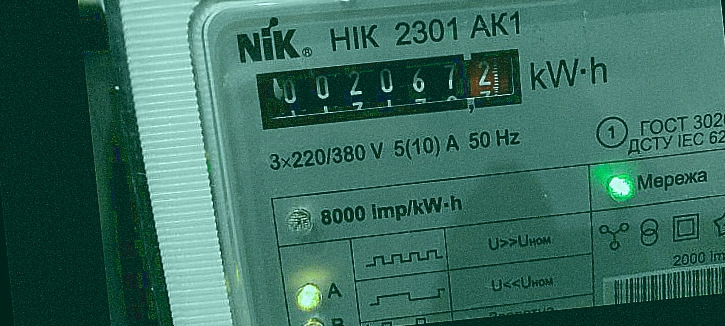0: (277, 75, 298, 105), (311, 69, 331, 100), (374, 63, 394, 93)
2: (344, 66, 364, 97), (473, 56, 493, 87)
6: (407, 63, 428, 93)
7: (440, 60, 459, 91)
screen: (240, 32, 538, 143)
